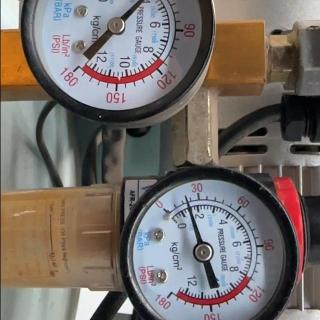gauge: (118, 166, 306, 320), (2, 0, 218, 128), (58, 56, 90, 84), (153, 199, 174, 221), (192, 242, 215, 262), (158, 286, 178, 306), (106, 17, 126, 35), (182, 192, 190, 202)
